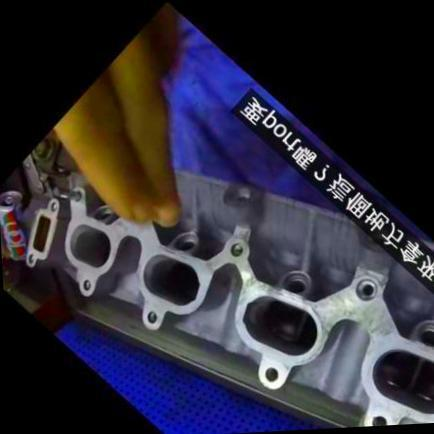hole: (351, 272, 385, 306), (263, 362, 285, 384), (228, 238, 249, 258), (370, 410, 394, 426), (146, 307, 162, 326), (48, 197, 63, 212), (81, 276, 96, 290), (27, 251, 40, 264)
